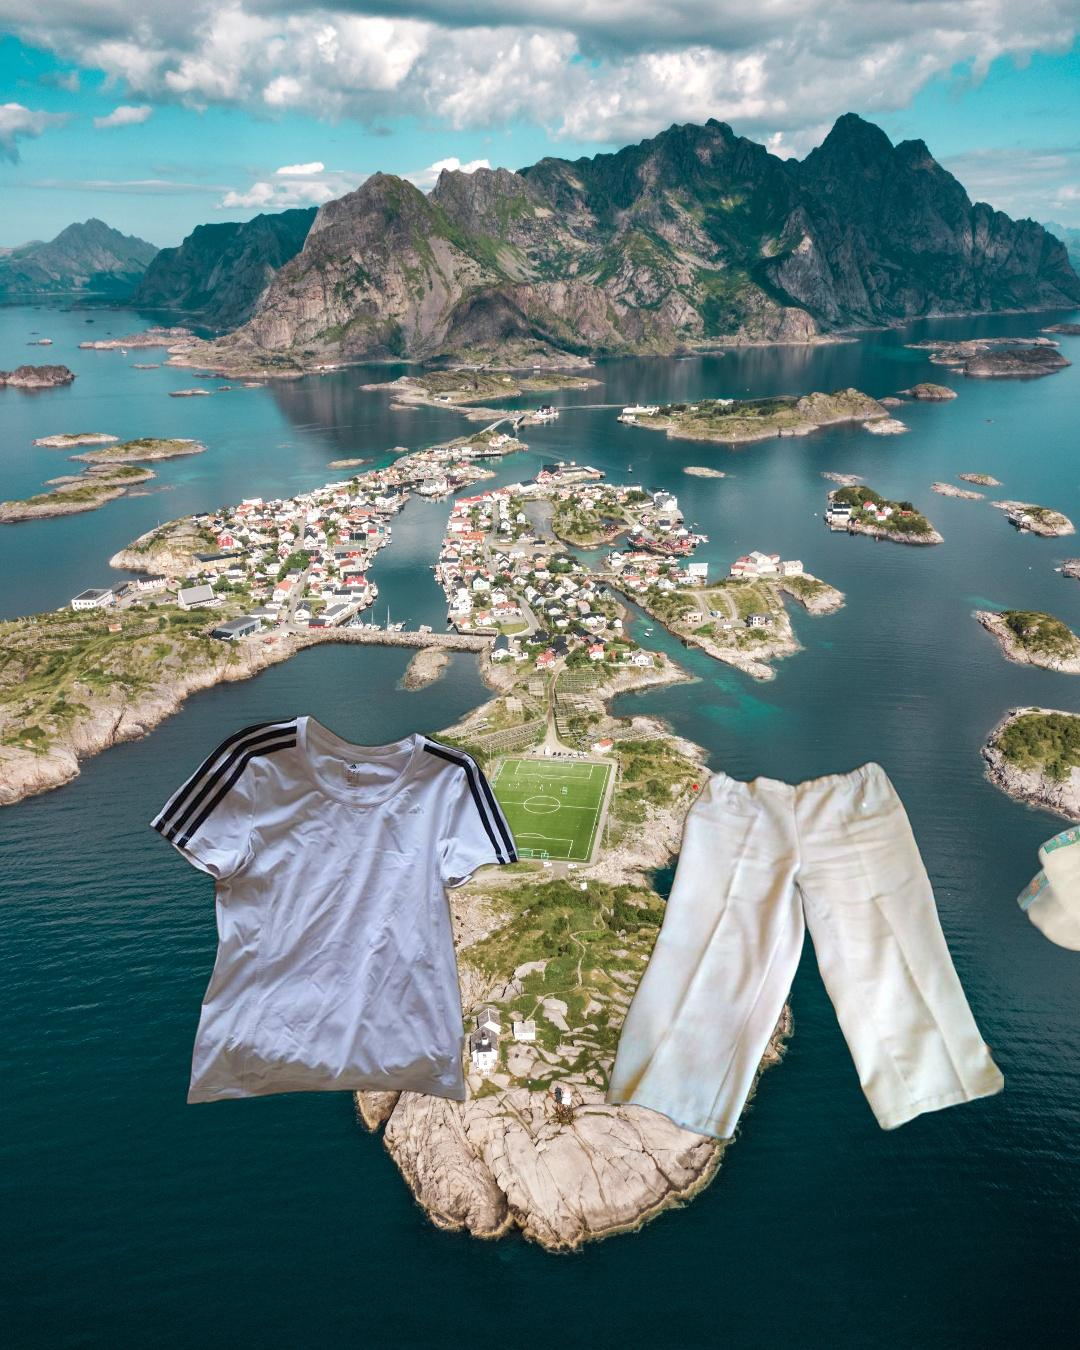clothes: (604, 756, 1004, 1145), (145, 711, 523, 1110), (998, 792, 1080, 1181)
trash: (1013, 797, 1080, 978)
